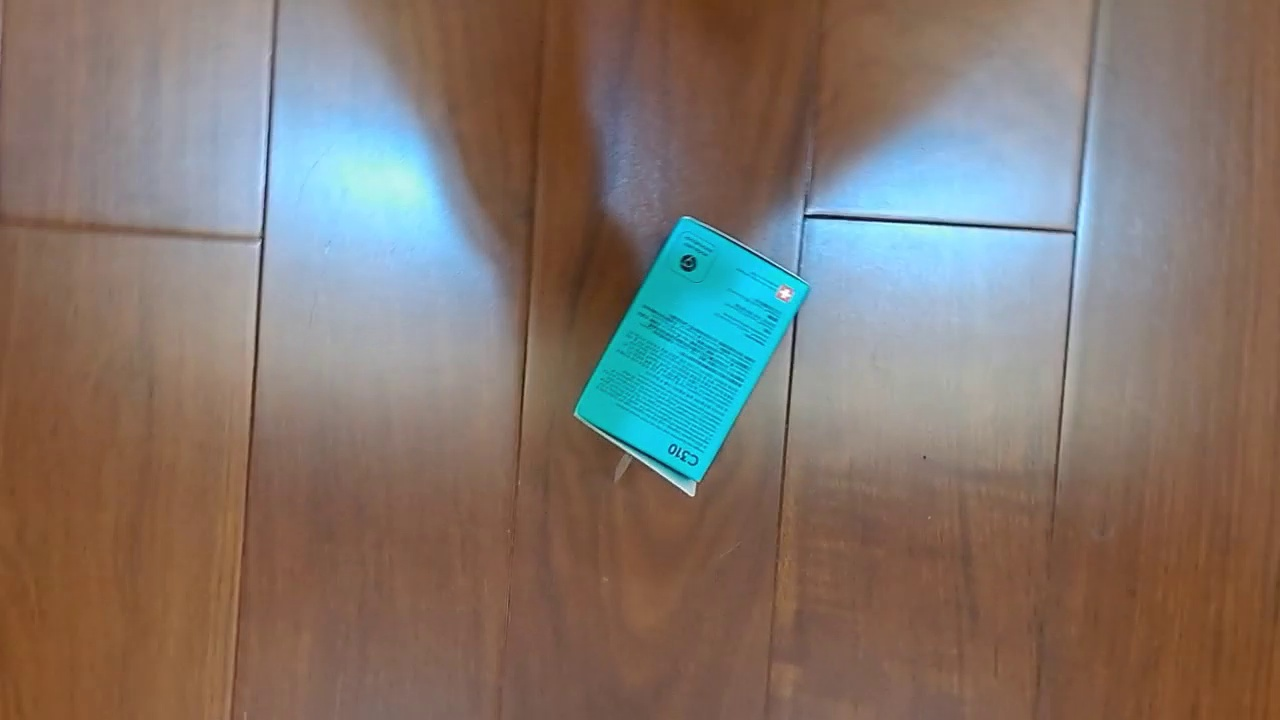webcam: (572, 214, 812, 499)
